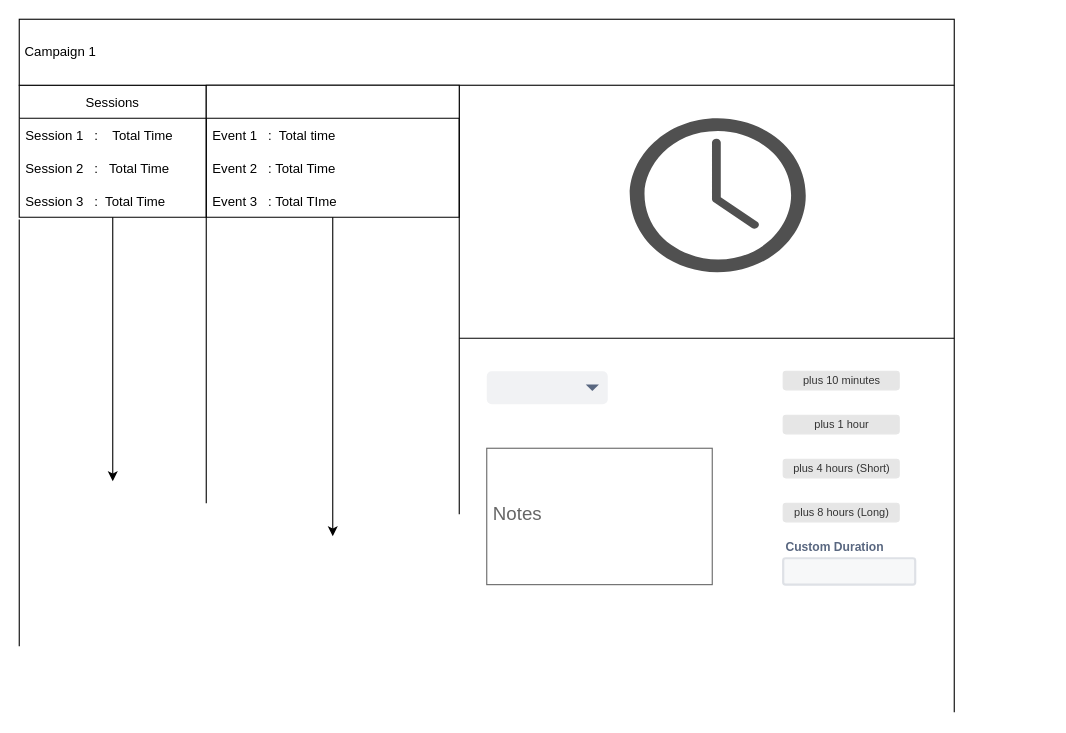
The diagram is 1066 pixels wide and 733 high, and some of its shapes have lost their labels. The shapes that lost their labels are listed below. From the top down, each one's box as (x1, y1, x2, y2) in pixels, then its label:
(205, 84, 459, 217): Events
(486, 371, 607, 404): Event Type
(782, 557, 916, 585): Watermelon Squad
